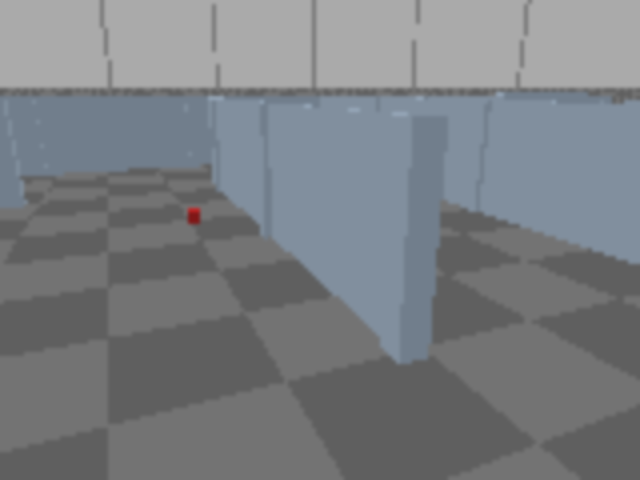puck: (187, 207, 201, 225)
